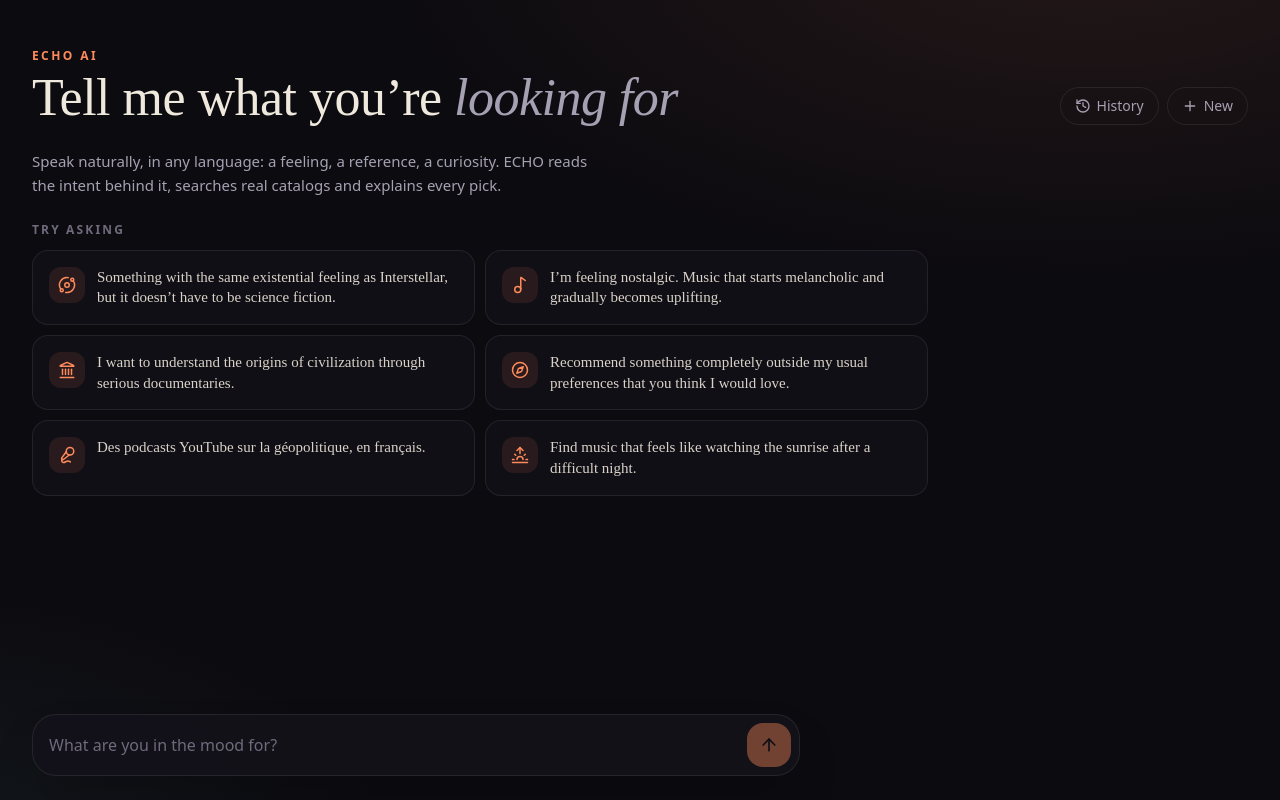
Echo AI answer lanes › an artist’s live session sits inside their lane (badge, count), not among the other picks, and plays in its own player
Later steps or results of the test are not shown.
Type "nova lyric" into the text box named "Message Echo" at (394, 745), box 49,723 -> 739,767
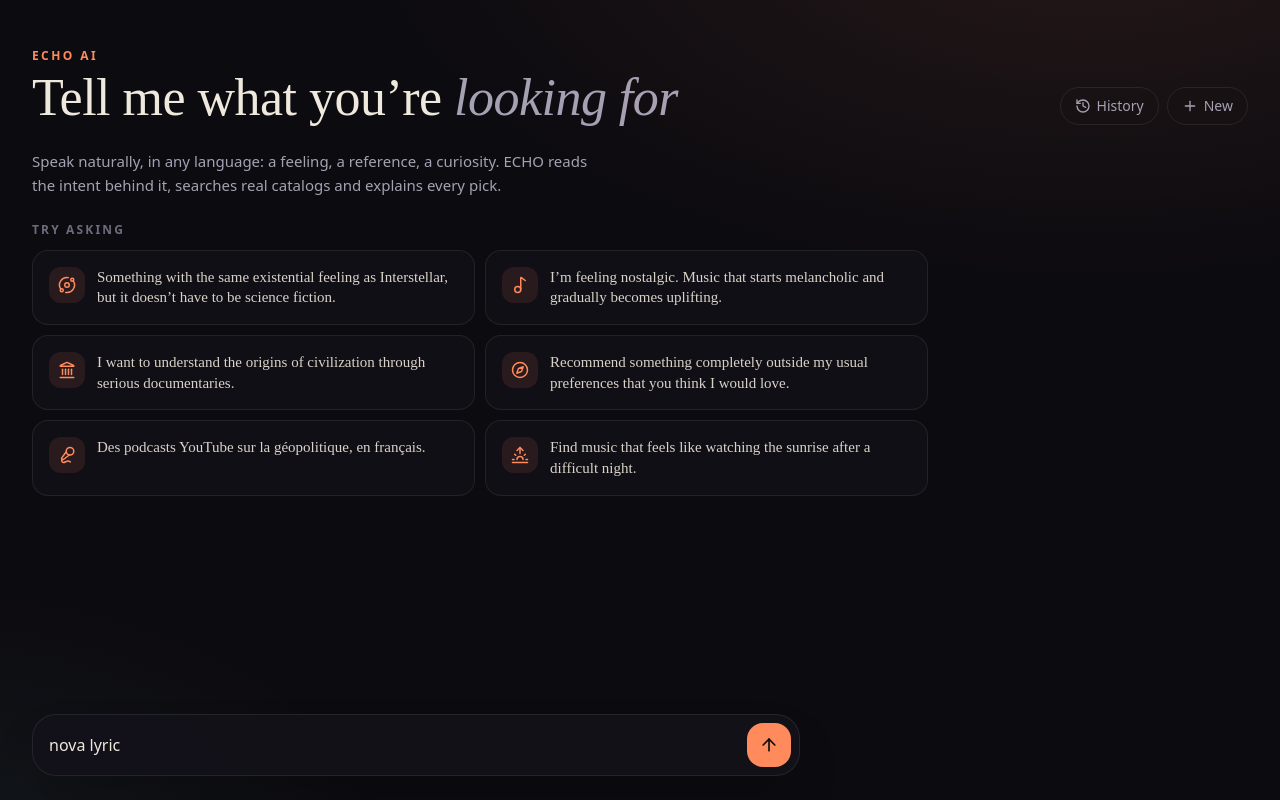
Click the button named "Send" at (769, 745), box 747,723 -> 791,767
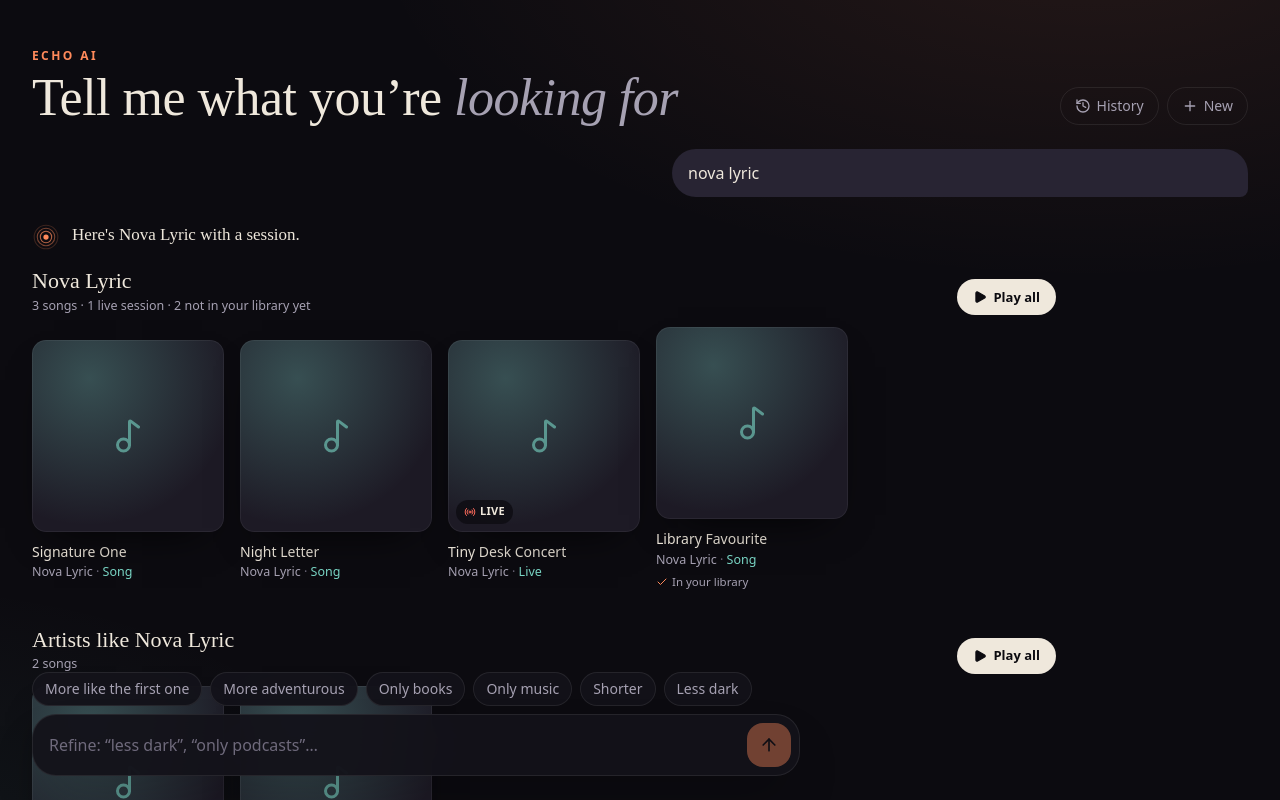
Expected: the text "Here's Nova Lyric with a session." is shown, 72,221 -> 300,249
Expected: the text "3 songs · 1 live session · 2 not in your library yet" is shown, 32,297 -> 311,315
Expected: the text "Tiny Desk Concert" is shown once, 448,542 -> 566,561
